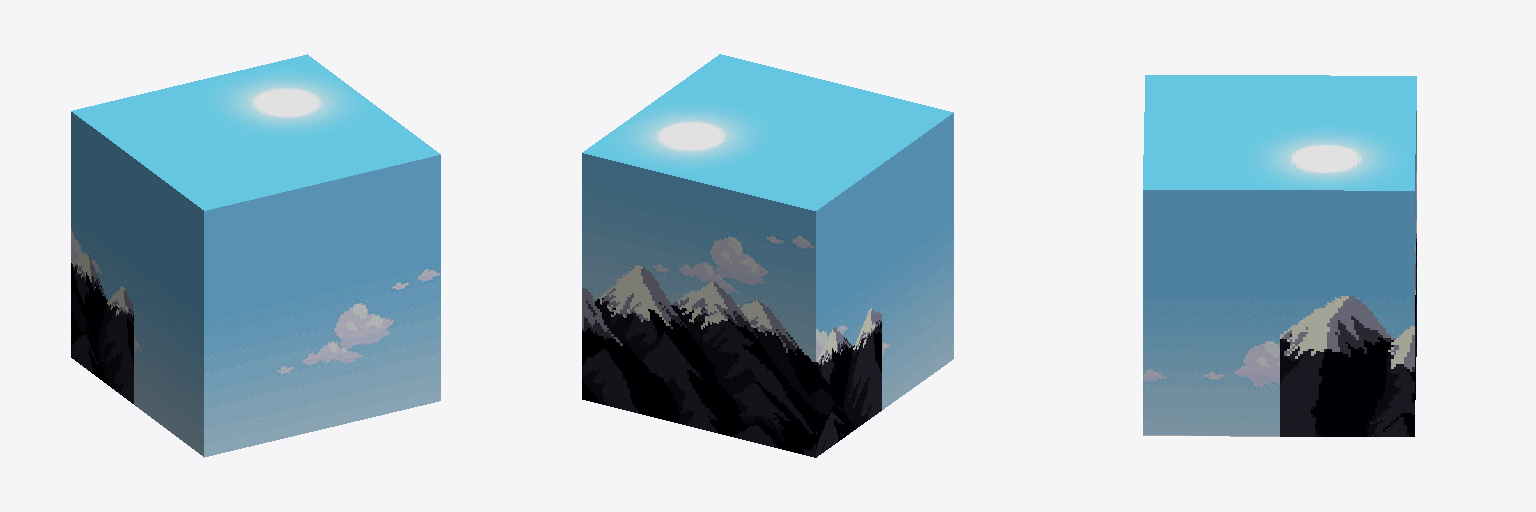
3 views of the same model, side by side, from view 1: azimuth 30°, elevation 25°; view 2: azimuth 150°, elevation 25°; view 3: azimuth 270°, elevation 25° (orthographic).
Visible parts, largest first — view 1: skybox2:pCube1; view 2: skybox2:pCube1; view 3: skybox2:pCube1.
Part boxes in pixels (x1,y1,x2,y2): skybox2:pCube1: (71,54,440,457); skybox2:pCube1: (582,54,953,457); skybox2:pCube1: (1143,75,1416,436).
Bounding box in the file's own units: 19.17 × 18.98 × 19.17.
6 materials, 6 textured.